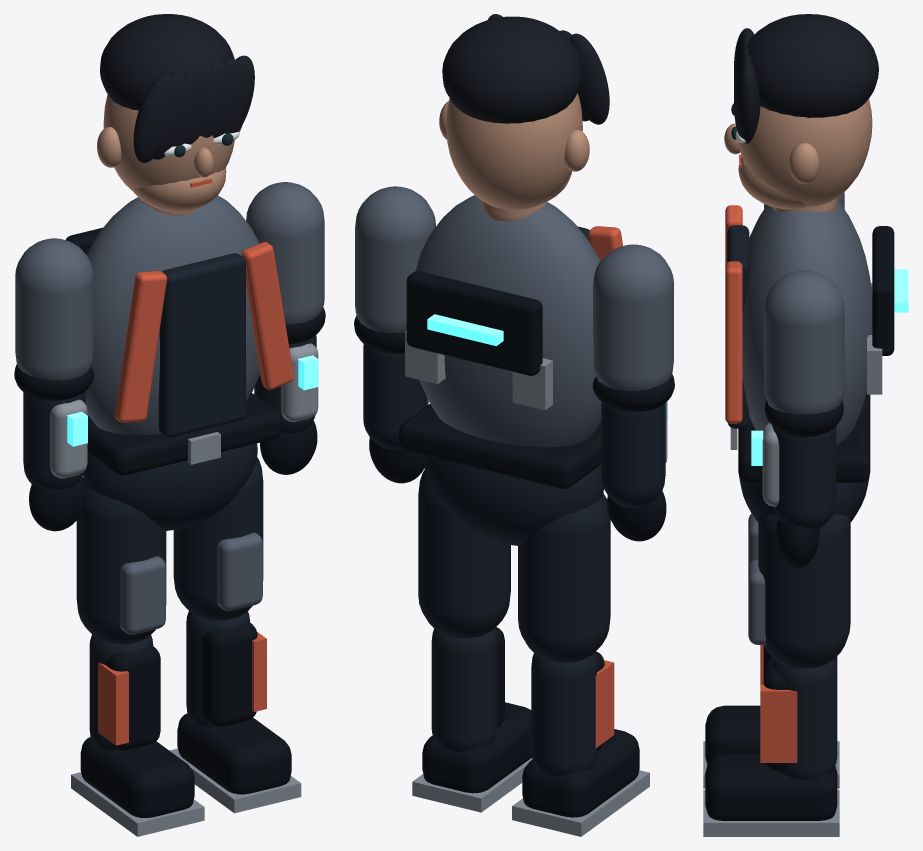
File: operator.glb
The picture shows the model from 3 angles, left to right: view 1: azimuth 30°, elevation 25°; view 2: azimuth 150°, elevation 25°; view 3: azimuth 270°, elevation 25°; orthographic projection. The views are drawn at different scales.
Parts seen in each view (by area): view 1: torso, head, shin_right, shin_left, pelvis, arm_left, leg_left, leg_right, arm_right, forearm_left, forearm_right; view 2: torso, head, shin_left, pelvis, shin_right, leg_left, arm_left, leg_right, arm_right, forearm_left, forearm_right; view 3: head, torso, shin_right, arm_right, leg_right, forearm_right, pelvis, shin_left, leg_left.
Boxes of the visible parts, x1,y1,x2,y2 form: torso: (66,195,293,437); head: (97,14,254,211); shin_right: (169,611,301,813); shin_left: (71,635,204,836); pelvis: (83,393,282,530); arm_left: (14,238,93,400); leg_left: (76,484,166,644); leg_right: (173,457,263,620); arm_right: (246,182,325,343); forearm_left: (23,391,87,531); forearm_right: (254,335,318,474); torso: (405,195,622,447); head: (439,14,609,209); shin_left: (512,651,649,836); pelvis: (398,404,603,545); shin_right: (412,627,532,812); leg_left: (518,493,610,662); arm_left: (592,244,674,411); leg_right: (418,470,510,638); arm_right: (354,186,435,353); forearm_left: (601,401,667,541); forearm_right: (363,344,428,483); head: (724,14,878,209); torso: (725,198,908,444); shin_right: (703,657,839,836); arm_right: (764,270,844,437); leg_right: (748,514,850,668); forearm_right: (751,423,836,568); pelvis: (730,392,870,522); shin_left: (703,645,839,788); leg_left: (748,513,850,567).
Size of the model in its own units: 0.81 by 1.94 by 0.4675.
